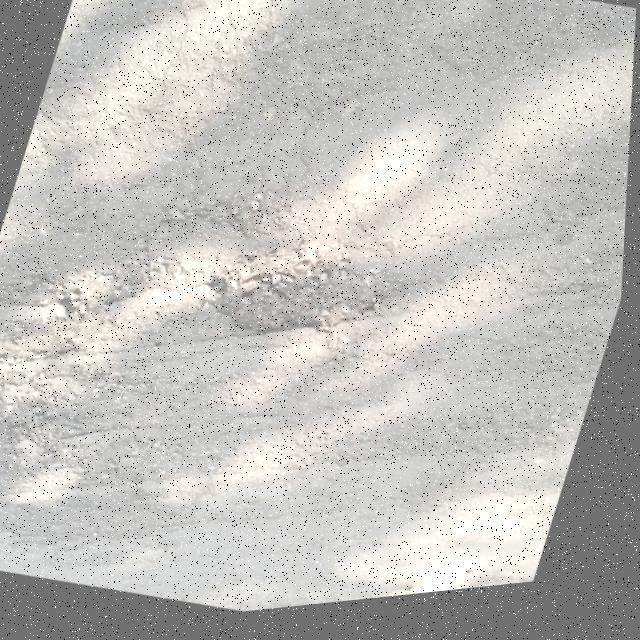pothole: (192, 212, 410, 382), (0, 228, 155, 421)
